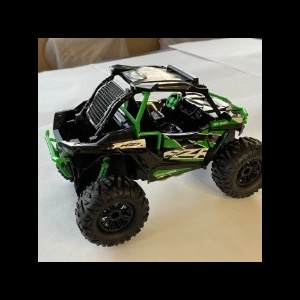polaris: (45, 65, 261, 247)
